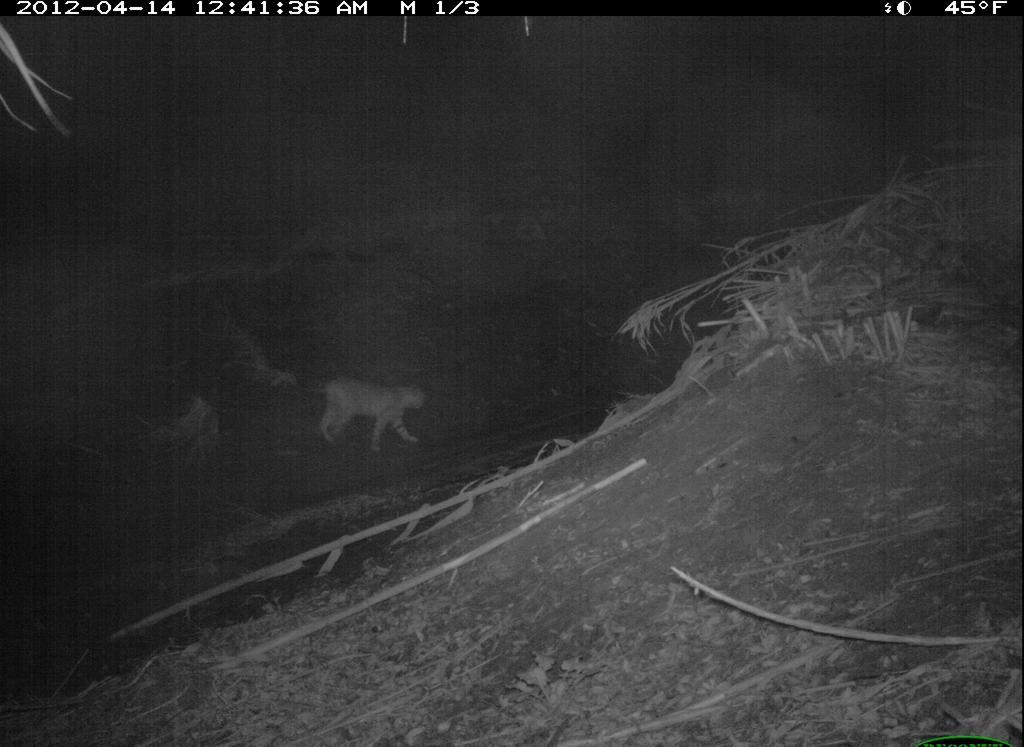bobcat: (304, 364, 436, 466)
